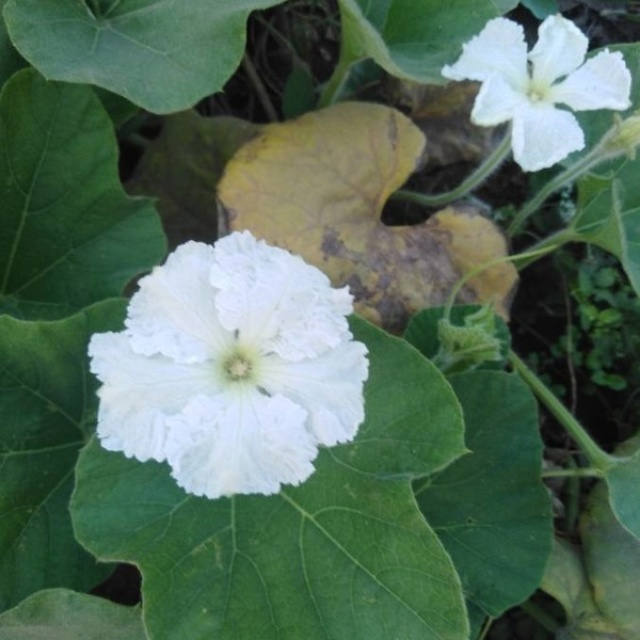obstacle: (27, 161, 566, 628)
